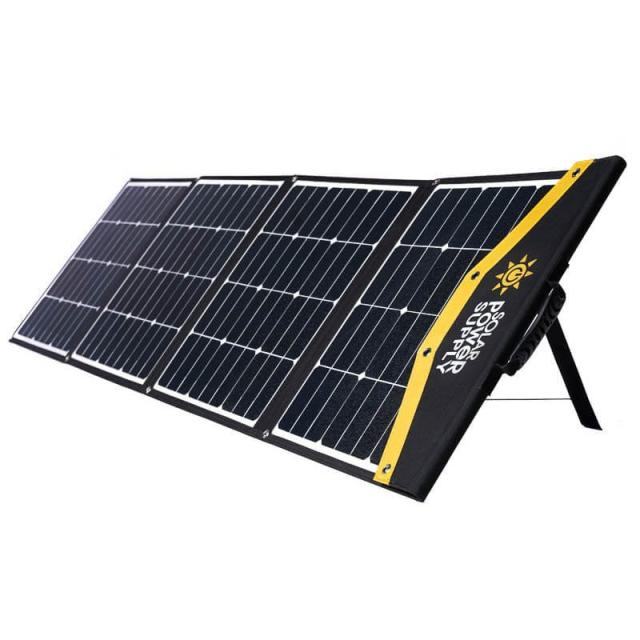clean-solar-panel: (14, 156, 625, 499)
